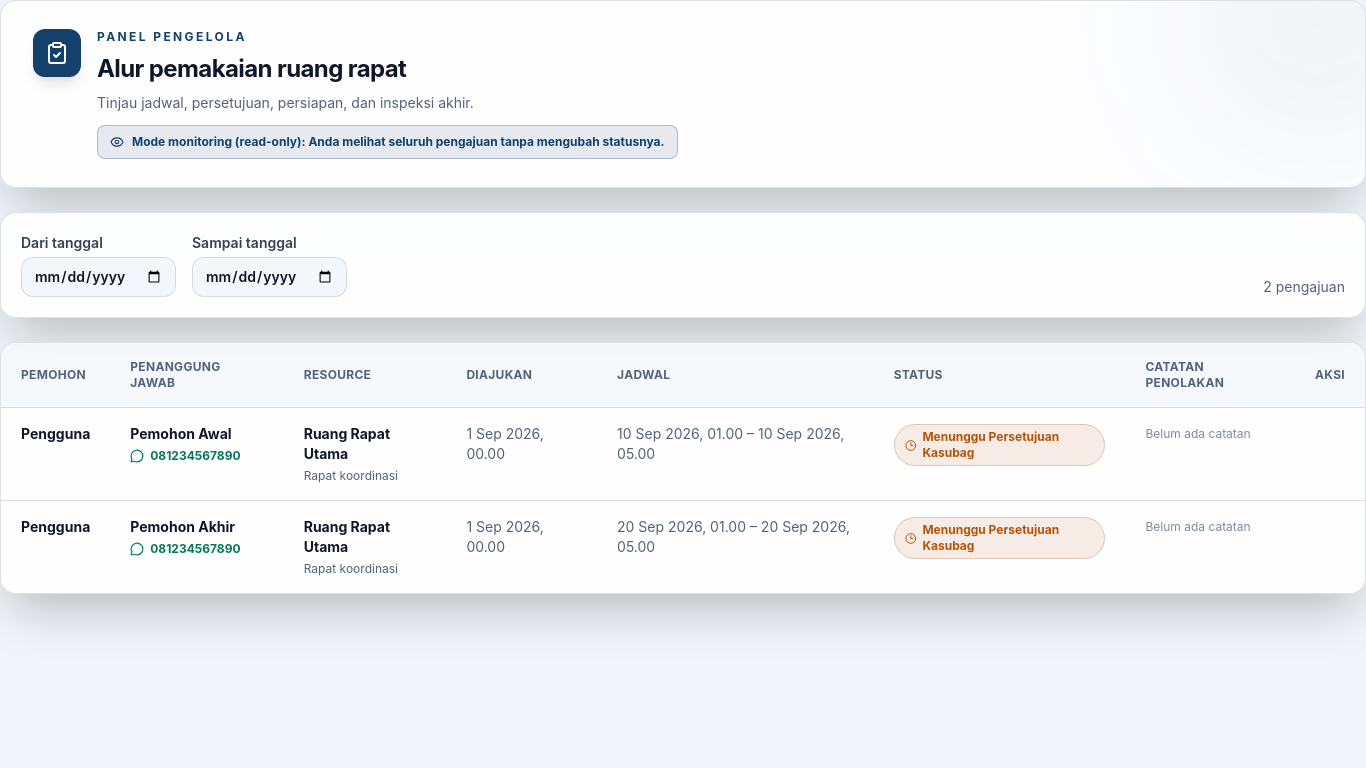
Scenario: AdminApprovalPage booking list › shows only the start bound when the end date is left empty
Type "2026-09-15" into the date field labelled "Dari tanggal" at (98, 277), box left=21, top=257, right=176, bottom=297
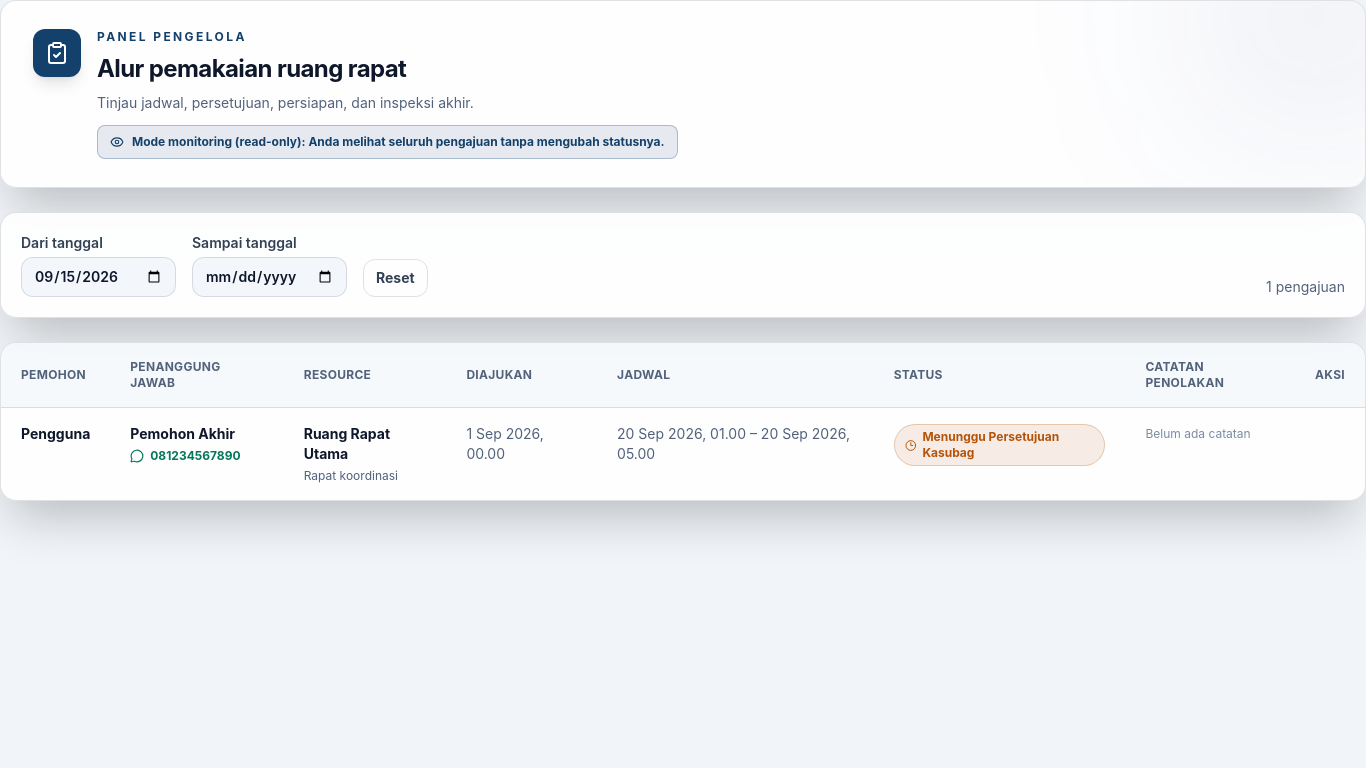
Expected: the text "Pemohon Akhir" is shown, left=130, top=425, right=235, bottom=442
Expected: the text "Pemohon Awal" is gone
